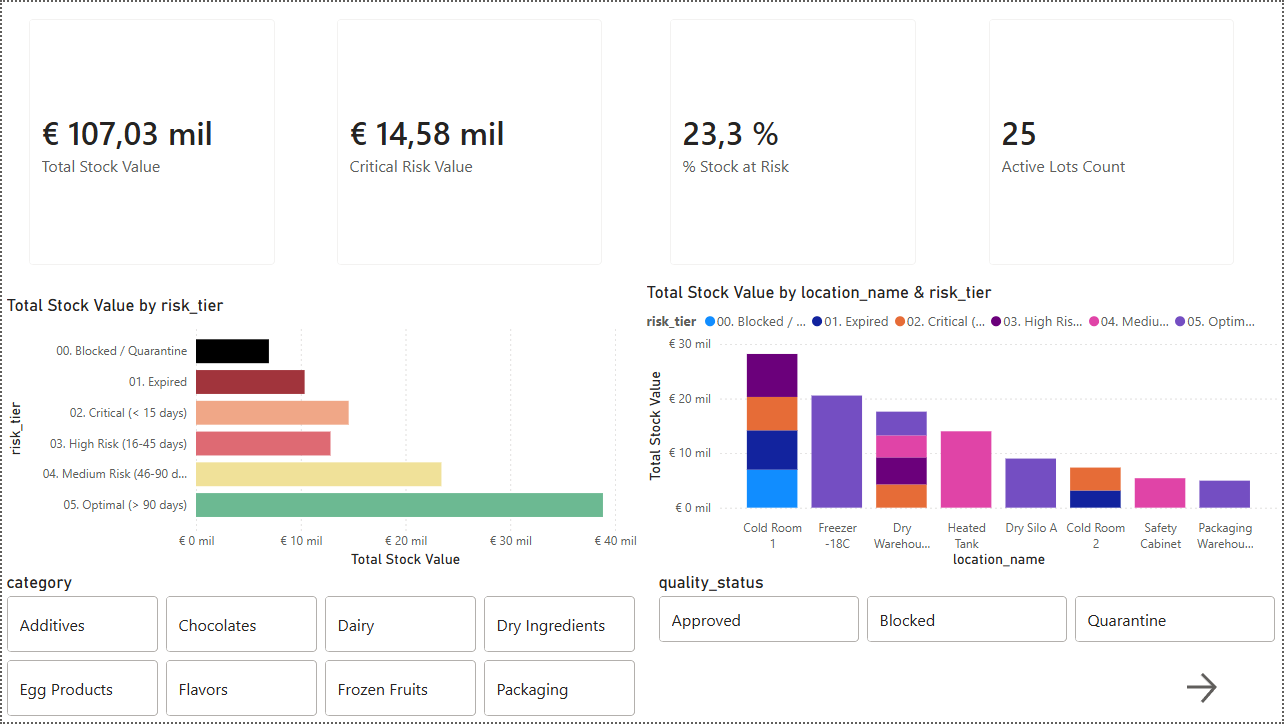

What the dashboard file says about the page in this screenshot:
{"tool":"powerbi","page":{"name":"Executive Overview","canvas":[1280,720],"ordinal":0},"visuals":[{"type":"cardVisual","fields":{"Data":["_Measures.Total Stock Value"]},"box":[10,0,280,280],"z":0},{"type":"cardVisual","fields":{"Data":["_Measures.% Stock at Risk"]},"box":[651.1,0,280.2,280.2],"z":1000},{"type":"cardVisual","fields":{"Data":["_Measures.Critical Risk Value"]},"box":[318.5,0,298.3,280.2],"z":2000},{"type":"cardVisual","fields":{"Data":["_Measures.Active Lots Count"]},"box":[969.6,0,279.2,280.2],"z":3000},{"type":"clusteredBarChart","title":"Total Stock Value by risk_tier","fields":{"Category":["public vw_fefo_inventory_analysis.risk_tier"],"Y":["_Measures.Total Stock Value"]},"box":[0,293.2,640,276.4],"z":4000},{"type":"columnChart","title":"Total Stock Value by location_name & risk_tier","fields":{"Category":["public vw_fefo_inventory_analysis.location_name"],"Y":["_Measures.Total Stock Value"],"Series":["public vw_fefo_inventory_analysis.risk_tier"]},"box":[640,279.5,640,290],"z":5000},{"type":"advancedSlicerVisual","fields":{"Values":["public vw_fefo_inventory_analysis.category"]},"box":[0,570,640,150],"z":6000},{"type":"advancedSlicerVisual","fields":{"Values":["public vw_fefo_inventory_analysis.quality_status"]},"box":[651.6,569.6,628.4,75.7],"z":7000},{"type":"actionButton","box":[1179,666,70,40],"z":8000}]}

Visuals, with their boxes in screenshot pixels (x1, y1, x2, y2), scaled from the page's 1280x720 canvas onto the 1285x725 screenshot:
cardVisual - _Measures.Total Stock Value: BBox(10, 0, 291, 282)
cardVisual - _Measures.% Stock at Risk: BBox(654, 0, 935, 282)
cardVisual - _Measures.Critical Risk Value: BBox(320, 0, 619, 282)
cardVisual - _Measures.Active Lots Count: BBox(973, 0, 1254, 282)
"Total Stock Value by risk_tier" clusteredBarChart: BBox(0, 295, 642, 574)
"Total Stock Value by location_name & risk_tier" columnChart: BBox(642, 281, 1284, 573)
advancedSlicerVisual - public vw_fefo_inventory_analysis.category: BBox(0, 574, 642, 724)
advancedSlicerVisual - public vw_fefo_inventory_analysis.quality_status: BBox(654, 574, 1284, 650)
actionButton: BBox(1184, 671, 1254, 711)
